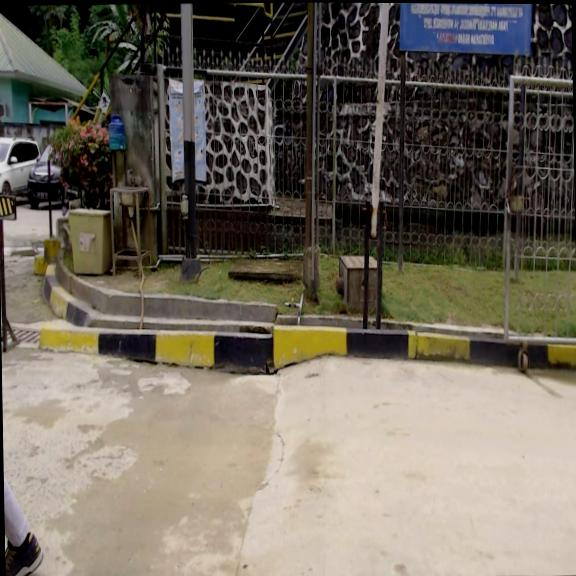safety_vest: (0, 179, 5, 266)
